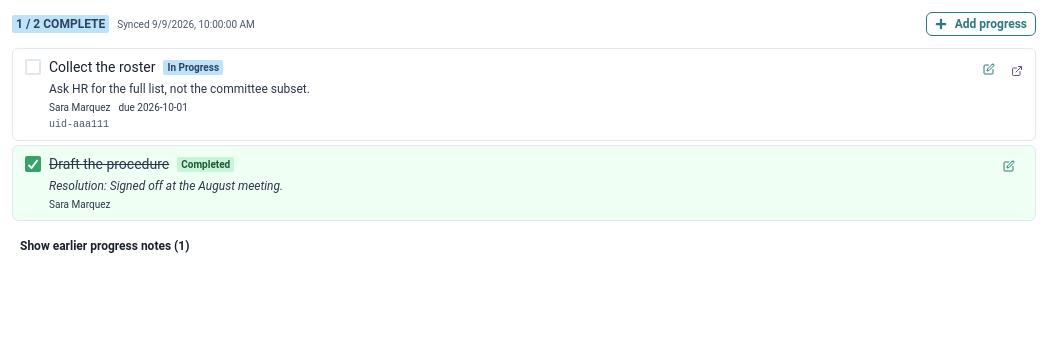
PlanProgress › keeps pre-merge progress notes readable, but read-only
This screenshot has width=1048, height=359.
Expected: the text "Collect the roster" is shown, [49,57,156,78]
Click the button "Show earlier progress notes (1)": (105,246) [12,234,197,258]
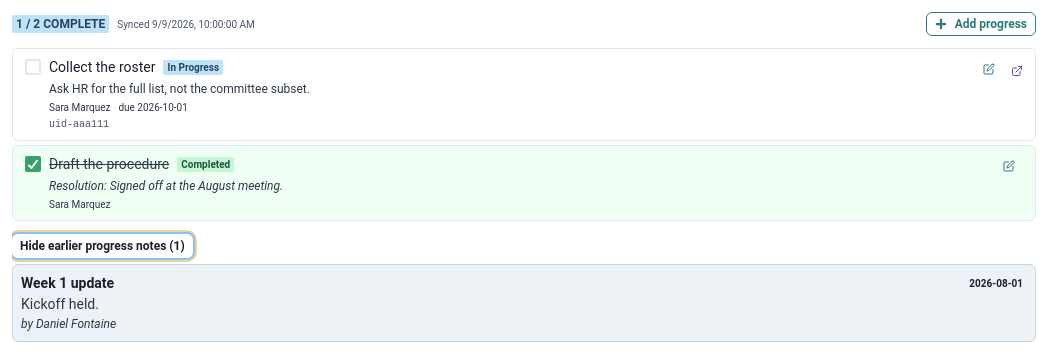
Expected: the text "Week 1 update" is shown, [21,273,114,294]
Expected: the text "Kickoff held." is shown, [21,296,99,312]
Expected: the text "by Daniel Fontaine" is shown, [21,317,116,331]
